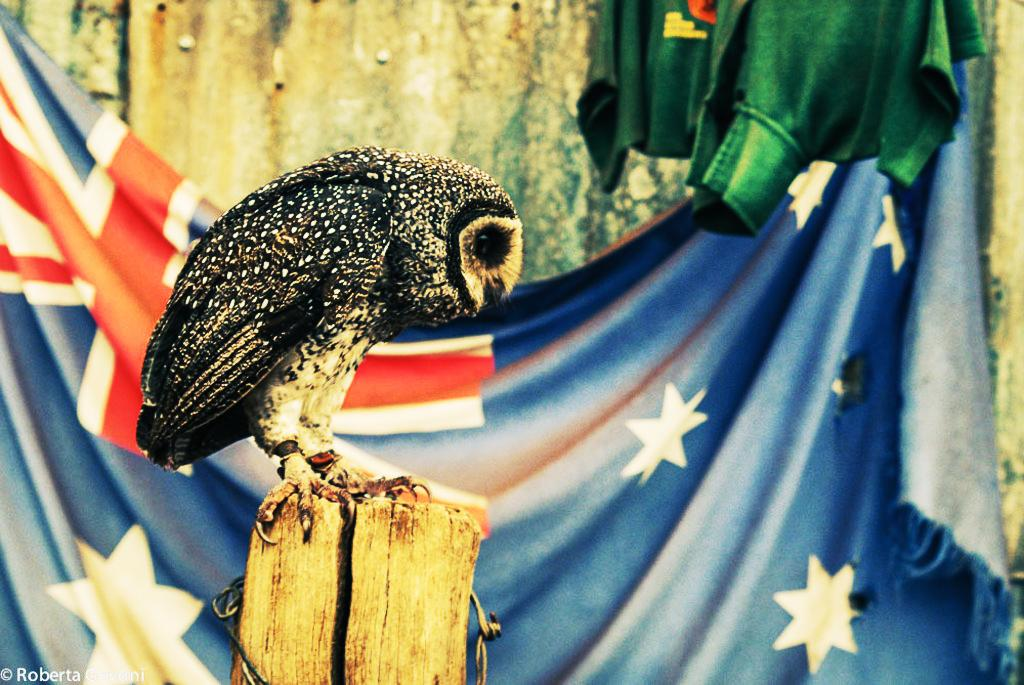Owl: (134, 138, 524, 547)
